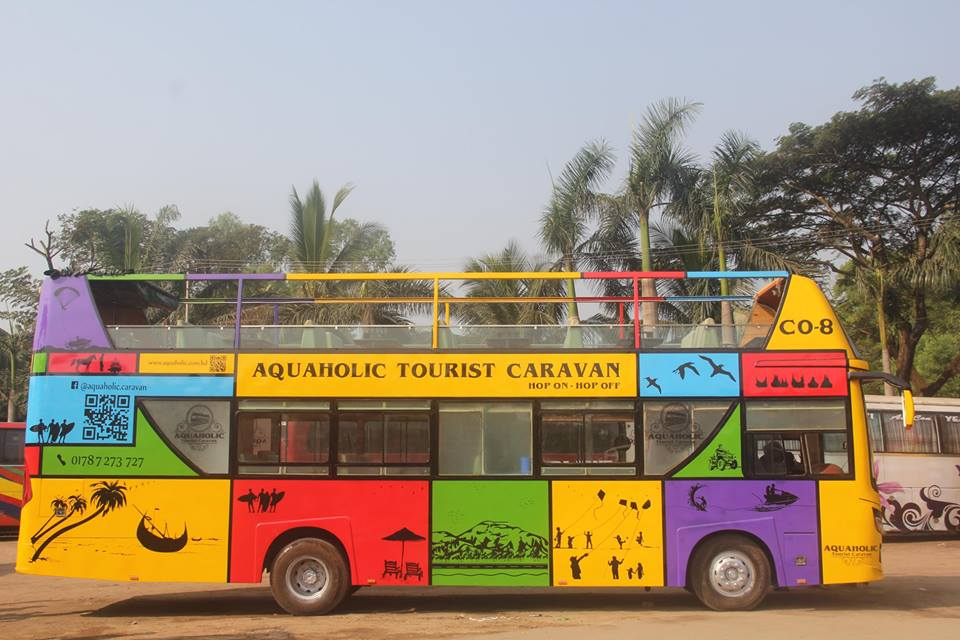bus: (22, 263, 883, 609), (868, 381, 960, 546)
